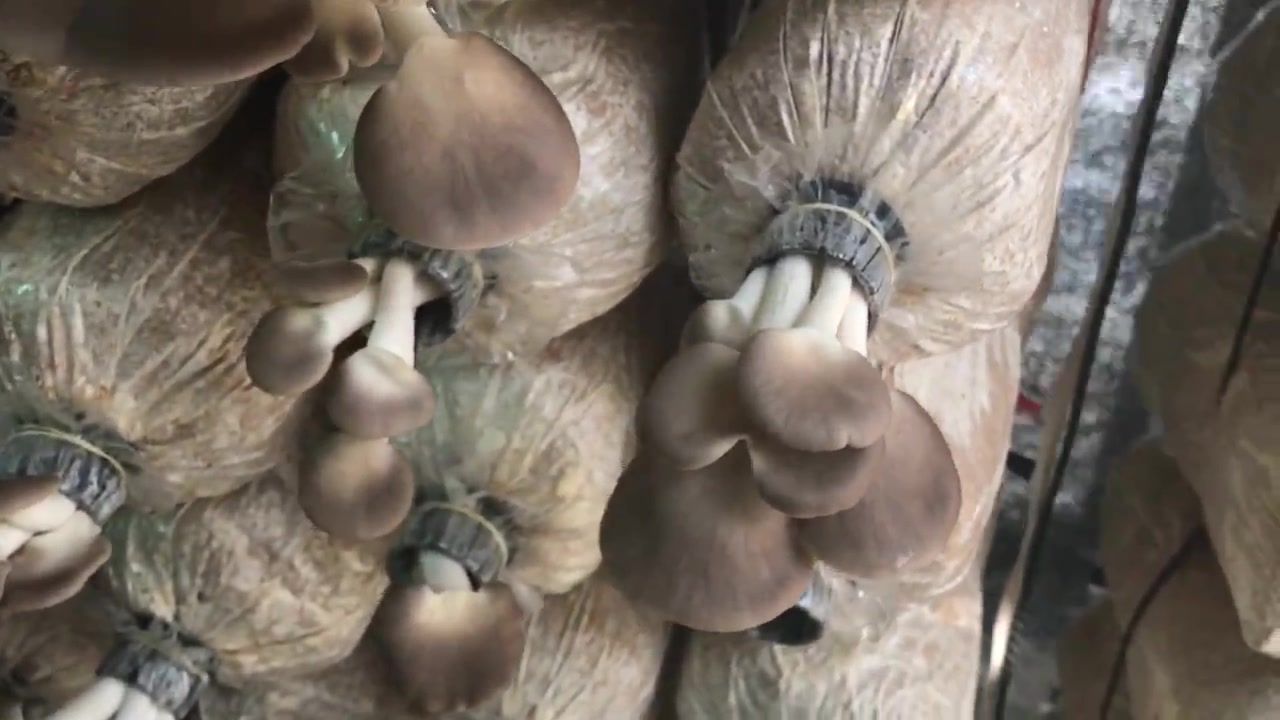nam: (601, 206, 956, 630), (64, 1, 580, 250), (245, 227, 484, 537), (370, 505, 526, 709), (1, 428, 126, 611)
